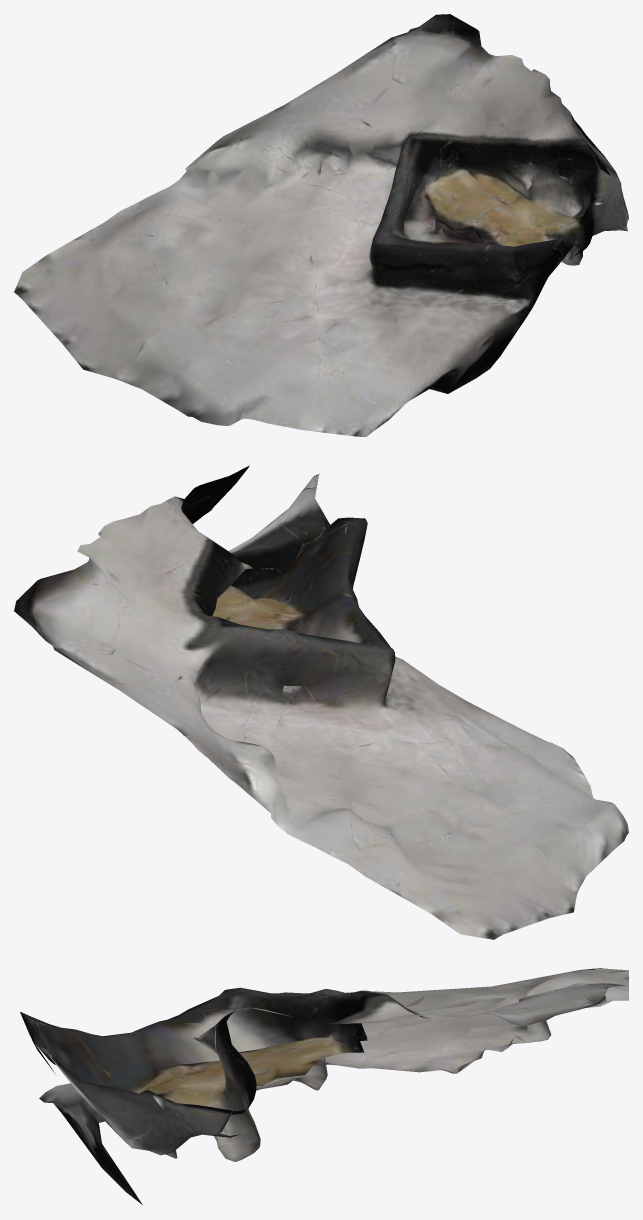
The model's file is hall.glb.
The picture shows the model from 3 angles, top to bottom: view 1: azimuth 30°, elevation 25°; view 2: azimuth 150°, elevation 25°; view 3: azimuth 270°, elevation 25°; orthographic projection. The views are drawn at different scales.
Size of the model in its own units: 0.9909 by 0.4273 by 0.8462.
1 material, 1 textured.
